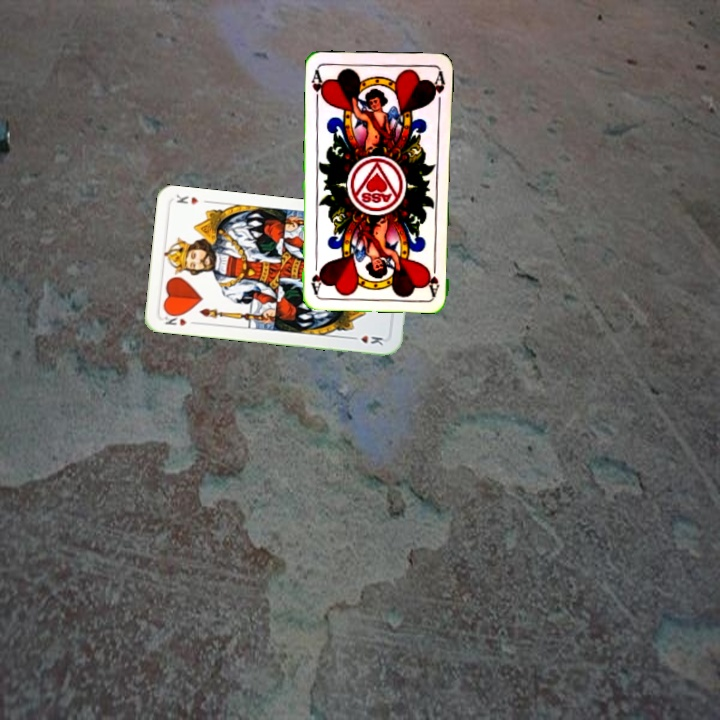HA: (308, 65, 328, 106), (424, 256, 442, 297)
HK: (160, 309, 199, 328)
